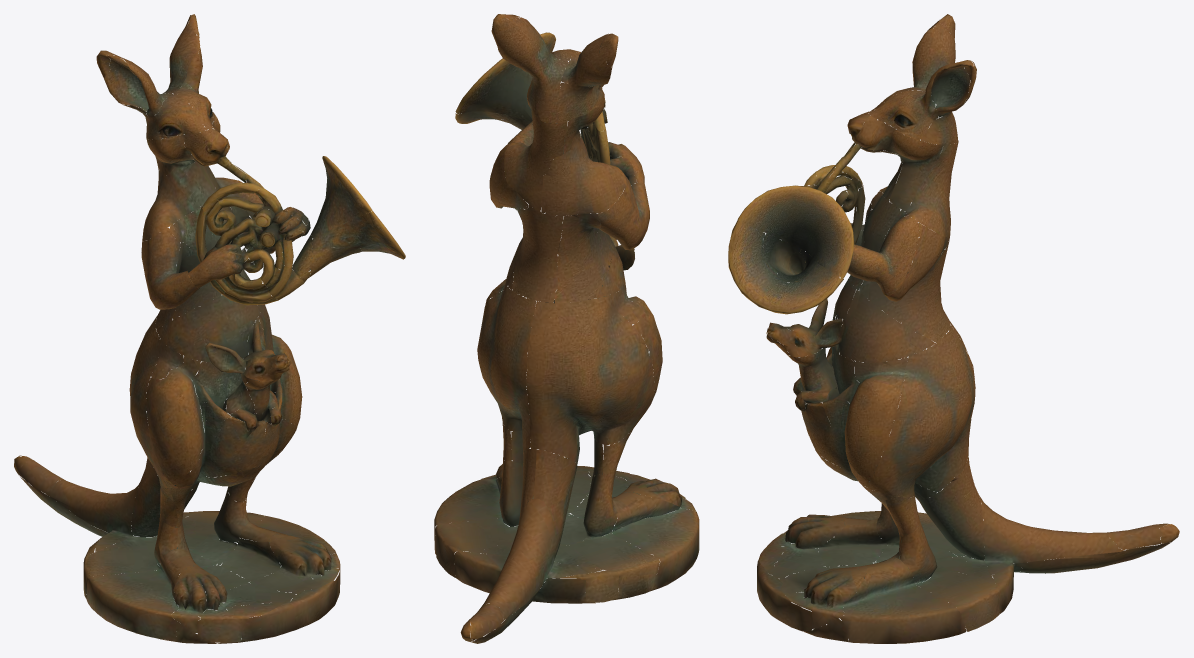
Rendered from h_clock_kangaroo.glb.
The picture shows the model from 3 angles, left to right: view 1: azimuth 30°, elevation 25°; view 2: azimuth 150°, elevation 25°; view 3: azimuth 270°, elevation 25°; orthographic projection. The views are drawn at different scales.
Visible parts, largest first — view 1: tripo_node_34c5f1cd-ca6f-41ed-b487-d33fb28386e2; view 2: tripo_node_34c5f1cd-ca6f-41ed-b487-d33fb28386e2; view 3: tripo_node_34c5f1cd-ca6f-41ed-b487-d33fb28386e2.
Boxes of the visible parts, x1,y1,x2,y2 form: tripo_node_34c5f1cd-ca6f-41ed-b487-d33fb28386e2: [14, 14, 405, 643]; tripo_node_34c5f1cd-ca6f-41ed-b487-d33fb28386e2: [434, 14, 699, 643]; tripo_node_34c5f1cd-ca6f-41ed-b487-d33fb28386e2: [728, 14, 1179, 643].
Bounding box in the file's own units: 0.4831 × 1 × 0.7537.
Materials: 1 (1 with a texture image).
